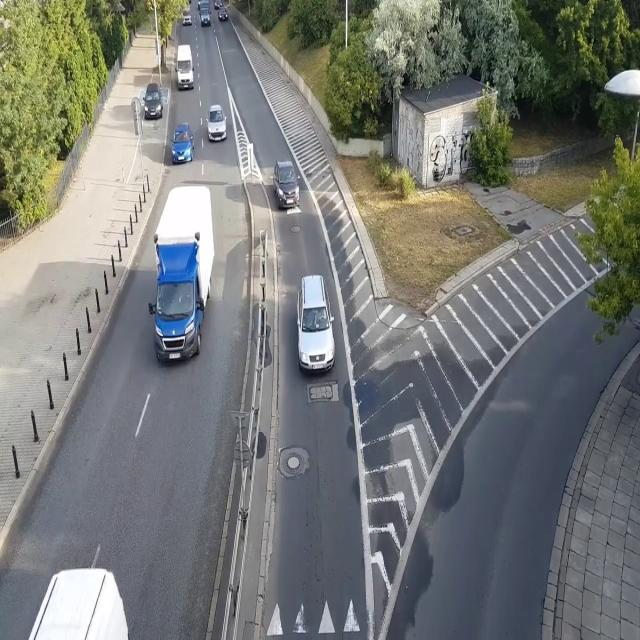car: (296, 274, 335, 374), (273, 158, 301, 210), (170, 123, 194, 164), (205, 104, 228, 142), (143, 82, 163, 120), (182, 10, 192, 26), (218, 6, 228, 22), (215, 0, 222, 10)
truck: (148, 184, 214, 363), (198, 0, 212, 27)
van: (24, 565, 130, 640), (175, 43, 195, 93)
